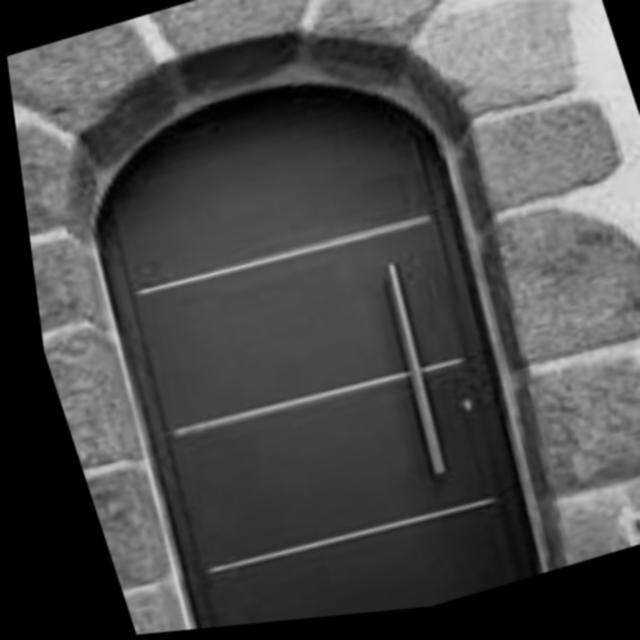door_handle: (350, 245, 471, 505)
